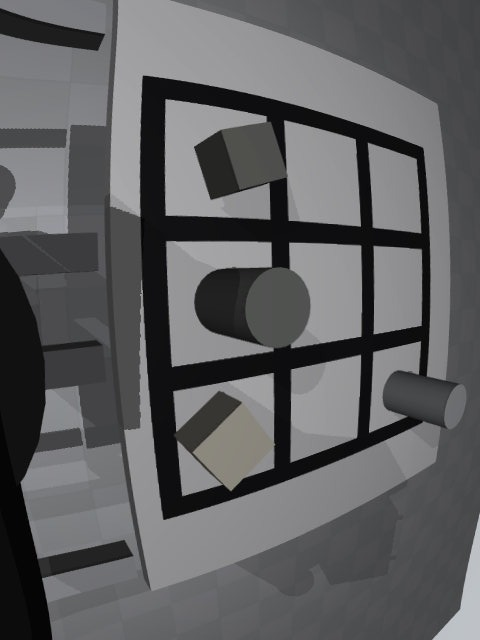can: (383, 370, 467, 429)
cube: (194, 122, 288, 200)
cylinder: (194, 267, 310, 348)
foam: (173, 391, 276, 491)
